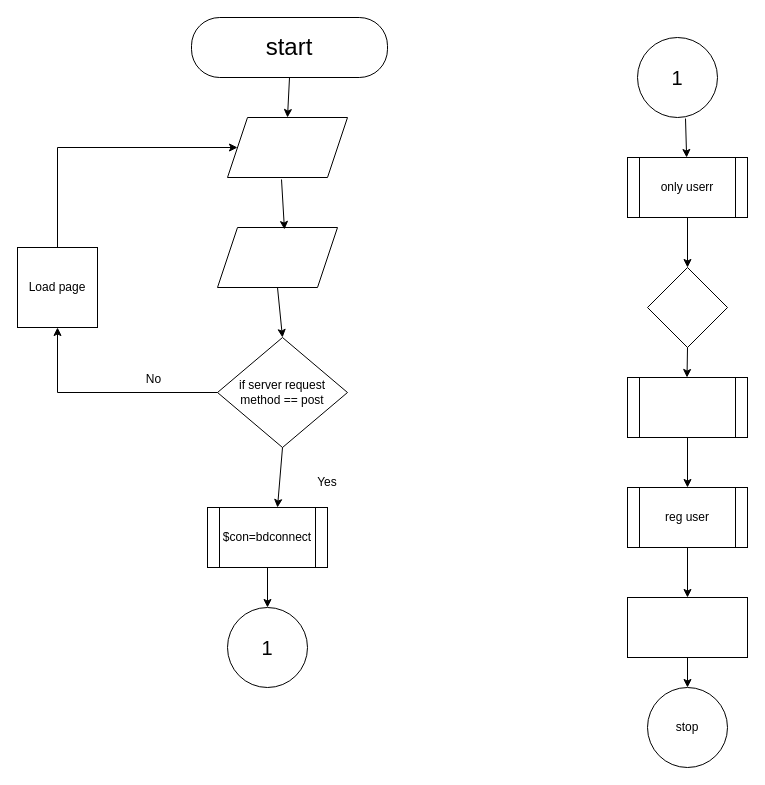
The diagram is 765 pixels wide and 785 high, and some of its shapes have lost their labels. The shapes that lost their labels are listed below. From the top down, each one's centre as x and y in pixels, then its label:
point (287, 147): calculate data from form
point (277, 257): submit buttom clicked
point (687, 307): is only user
point (687, 407): audit
point (687, 627): redlist cons
